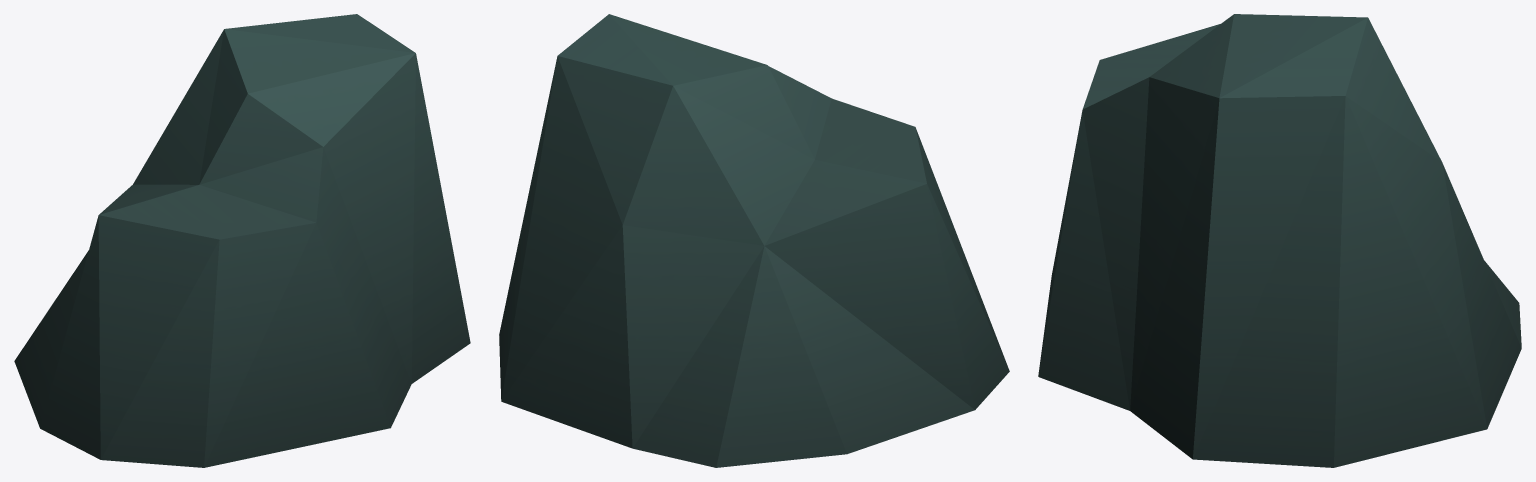
Rendered from SM_Rock_base_8.fbx.
3 views of the same model, side by side, from view 1: azimuth 30°, elevation 25°; view 2: azimuth 150°, elevation 25°; view 3: azimuth 270°, elevation 25° (orthographic). The views are drawn at different scales.
Parts seen in each view (by area): view 1: Rock_base_8; view 2: Rock_base_8; view 3: Rock_base_8.
Part boxes in pixels (left/top/right/bottom): Rock_base_8: left=14, top=14, right=470, bottom=467; Rock_base_8: left=499, top=14, right=1009, bottom=467; Rock_base_8: left=1038, top=14, right=1521, bottom=467.
Bounding box in the file's own units: 256 × 173 × 219.
Materials: 1 (1 with a texture image).
